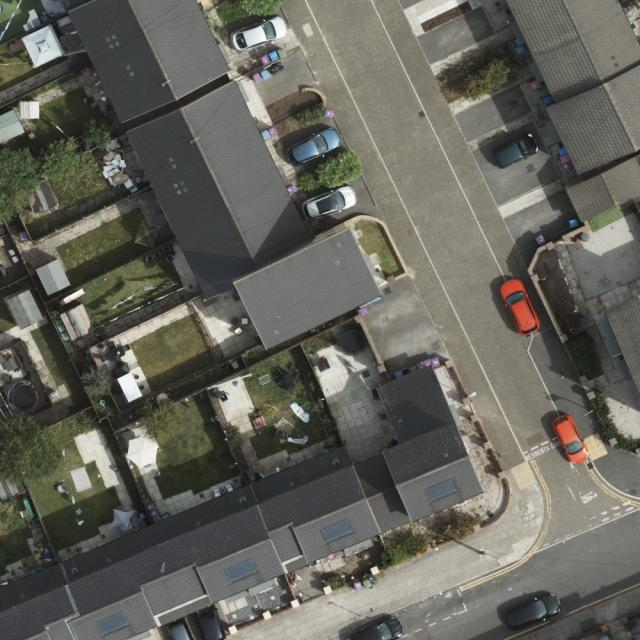roof: (0, 363, 486, 640), (123, 80, 385, 354), (504, 0, 640, 175), (66, 0, 234, 125), (568, 155, 639, 222), (603, 290, 640, 398)
